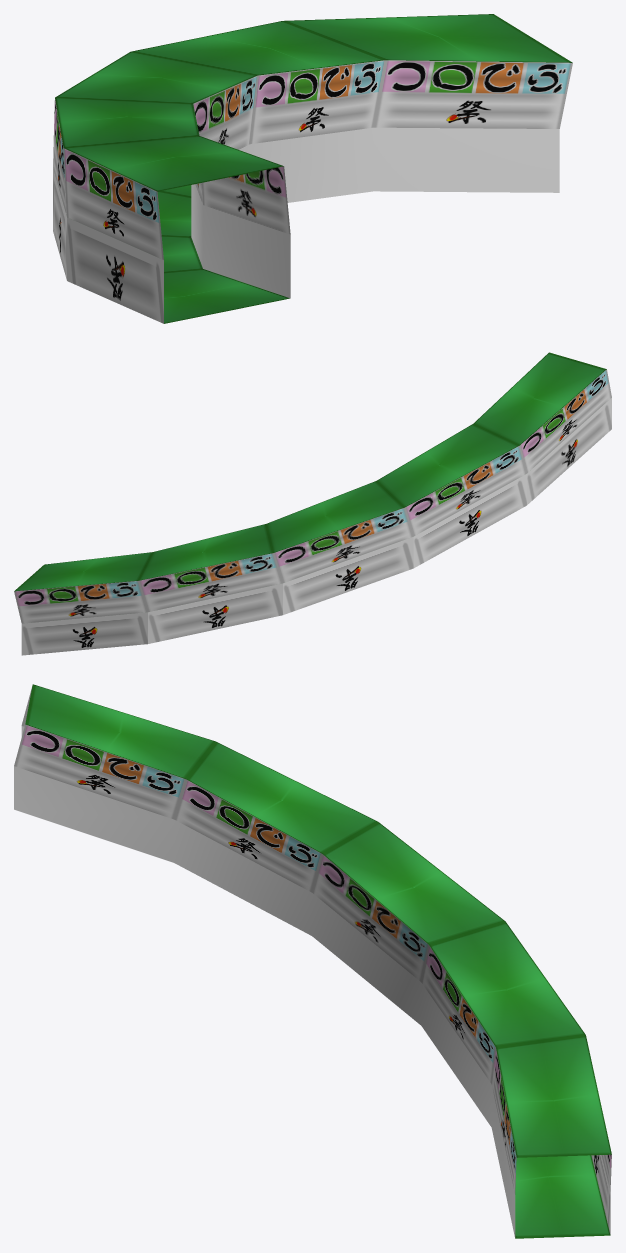
Rendered from CourseSummer_Wall_R_12.fbx.
3 renders of one model, top to bottom at view 1: azimuth 30°, elevation 25°; view 2: azimuth 150°, elevation 25°; view 3: azimuth 270°, elevation 25°, orthographic. The views are drawn at different scales.
Parts seen in each view (by area): view 1: polySurface106; view 2: polySurface106; view 3: polySurface106.
Part boxes in pixels (<box>): polySurface106: <box>53,14,572,323</box>; polySurface106: <box>14,352,611,655</box>; polySurface106: <box>14,684,611,1238</box>.
Bounding box in the file's own units: 12.67 × 6.97 × 12.47.
1 material, 1 textured.
